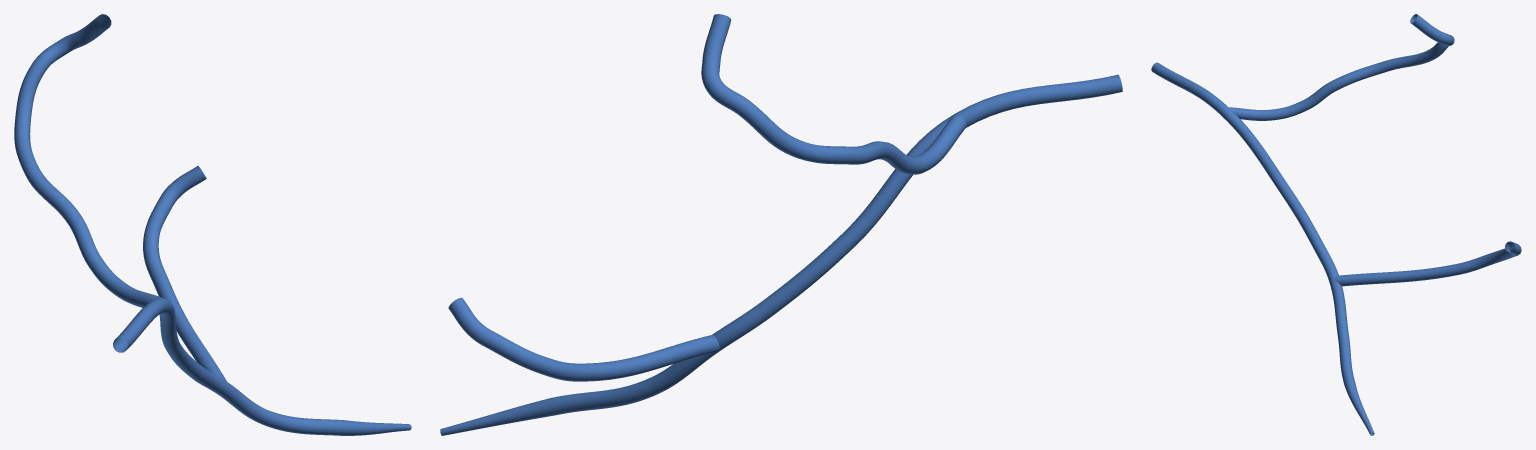
3 renders of one model, left to right at view 1: azimuth 30°, elevation 25°; view 2: azimuth 150°, elevation 25°; view 3: azimuth 270°, elevation 25°, orthographic. The views are drawn at different scales.
Parts seen in each view (by area): view 1: 右侧下唇静脉; view 2: 右侧下唇静脉; view 3: 右侧下唇静脉.
Part boxes in pixels (<box>): 右侧下唇静脉: <box>14,14,411,435</box>; 右侧下唇静脉: <box>440,14,1122,435</box>; 右侧下唇静脉: <box>1151,14,1521,435</box>.
Bounding box in the file's own units: 0.048 × 0.0471 × 0.0485.
